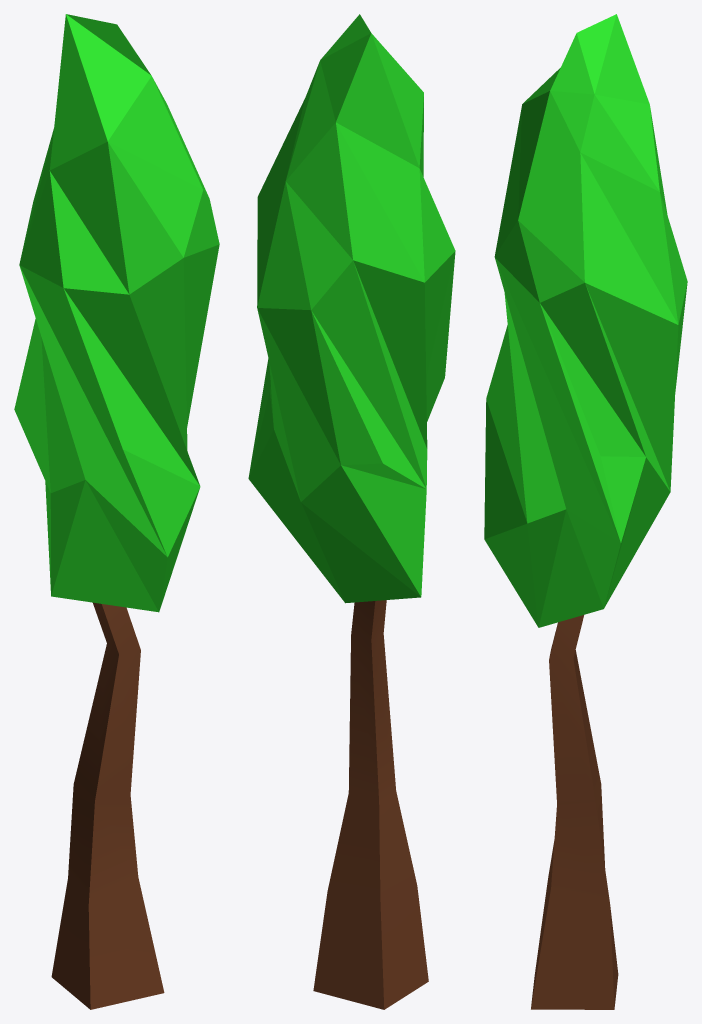
The model's file is tree3.fbx.
The picture shows the model from 3 angles, left to right: view 1: azimuth 30°, elevation 25°; view 2: azimuth 150°, elevation 25°; view 3: azimuth 270°, elevation 25°; orthographic projection.
Visible parts, largest first — view 1: tree3; view 2: tree3; view 3: tree3.
Boxes of the visible parts, x1,y1,x2,y2 form: tree3: (14, 14, 219, 1009); tree3: (248, 14, 455, 1009); tree3: (484, 14, 687, 1009).
Bounding box in the file's own units: 0.6515 × 3.37 × 0.6414.
